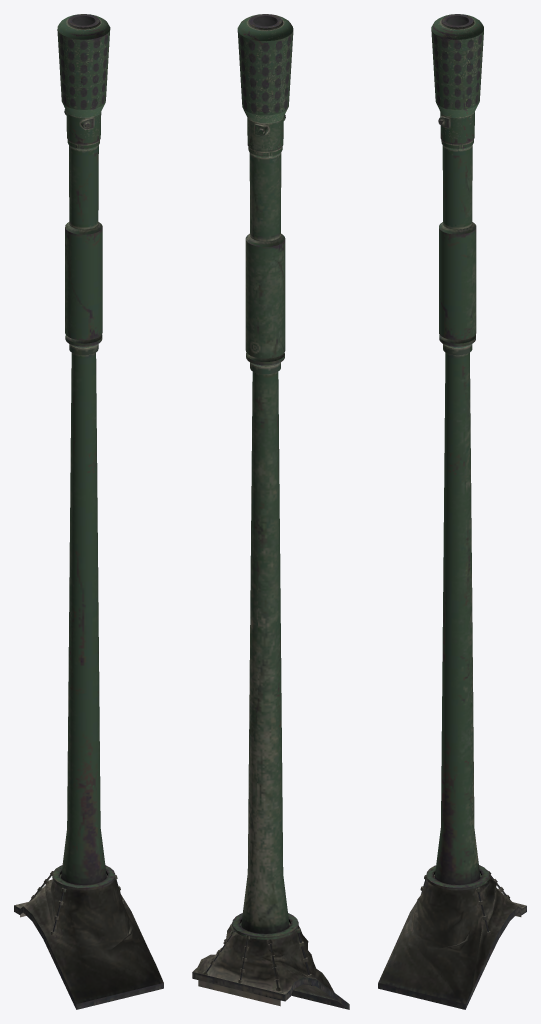
File: Gun_07.glb
3 renders of one model, left to right at view 1: azimuth 30°, elevation 25°; view 2: azimuth 150°, elevation 25°; view 3: azimuth 330°, elevation 25°, orthographic. The views are drawn at different scales.
Visible parts, largest first — view 1: set_0_group_0; view 2: set_0_group_0; view 3: set_0_group_0.
Boxes of the visible parts, x1,y1,x2,y2 form: set_0_group_0: (14, 14, 163, 1009); set_0_group_0: (192, 14, 349, 1009); set_0_group_0: (378, 14, 526, 1009).
Bounding box in the file's own units: 0.536 × 5.51 × 0.6467.
Materials: 1 (1 with a texture image).
